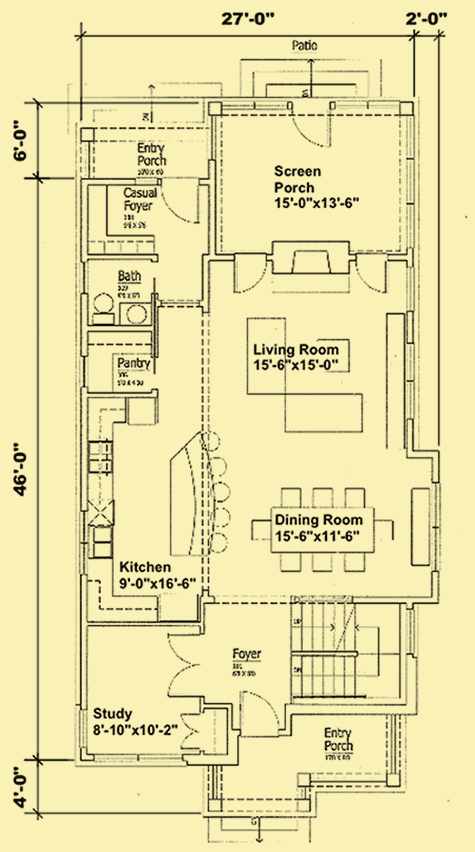dining table: (244, 481, 396, 578)
door: (162, 626, 207, 701), (287, 103, 346, 156), (237, 687, 284, 744), (160, 174, 205, 230), (350, 245, 391, 298), (233, 247, 270, 300), (173, 709, 209, 755)
large sink: (90, 288, 118, 334)
small sink: (119, 298, 152, 325)
stairs: (286, 592, 413, 715)
windows: (402, 110, 417, 251), (399, 337, 423, 423), (429, 478, 447, 576), (217, 93, 287, 113), (398, 605, 423, 656), (71, 703, 94, 753), (76, 506, 90, 582)
